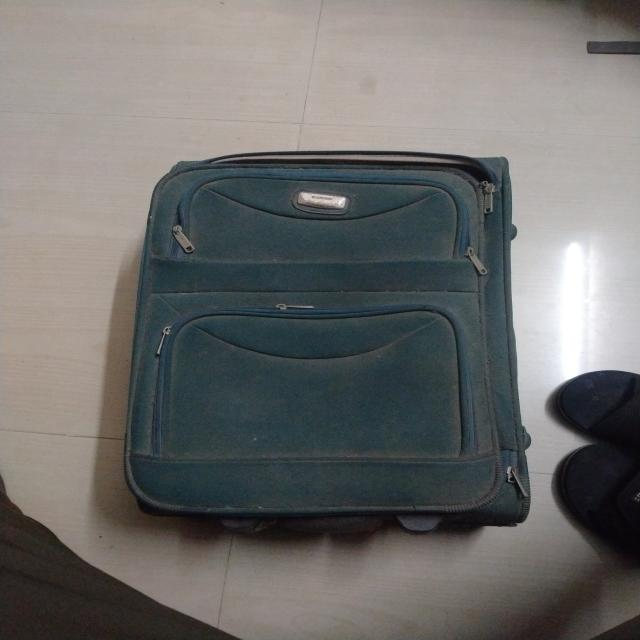suitcaserotation: (118, 145, 534, 536)
